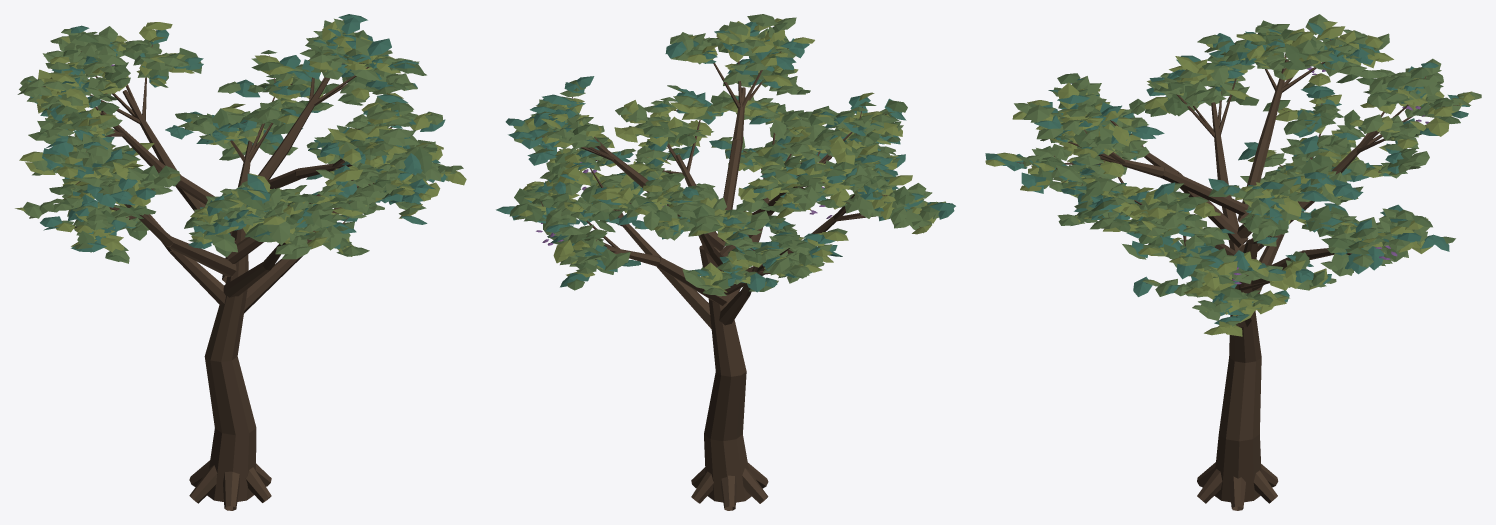
The model's file is reference_broadleaf_tree_a.glb.
The picture shows the model from 3 angles, left to right: view 1: azimuth 30°, elevation 25°; view 2: azimuth 150°, elevation 25°; view 3: azimuth 270°, elevation 25°; orthographic projection. The views are drawn at different scales.
Visible parts, largest first — view 1: Broadleaf_Tree_A; view 2: Broadleaf_Tree_A; view 3: Broadleaf_Tree_A.
Part boxes in pixels (<box>): Broadleaf_Tree_A: <box>15,14,466,510</box>; Broadleaf_Tree_A: <box>496,14,955,510</box>; Broadleaf_Tree_A: <box>985,14,1481,510</box>.
Bounding box in the file's own units: 5.73 × 5.32 × 5.7.
